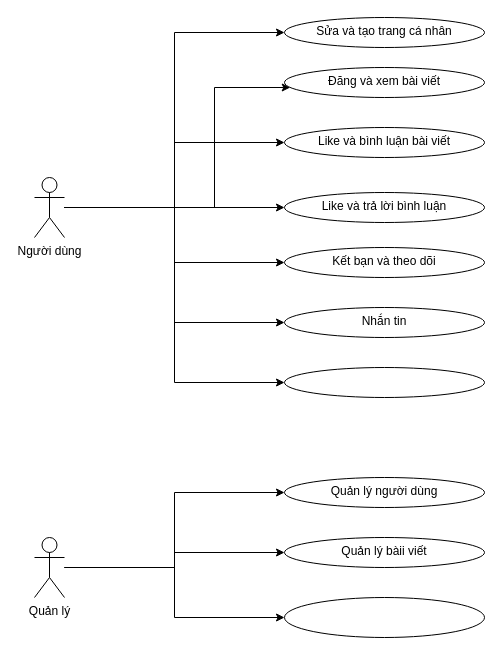
Some shapes in this 502 by 655 pixel diagram are drawn without their labels. Each missing label, with the centre of its shape:
"Nhận và xem thông báo" goes at point 384,382.
"Tiếp nhận thông tin phản hồi từ người dùng" goes at point 384,617.
